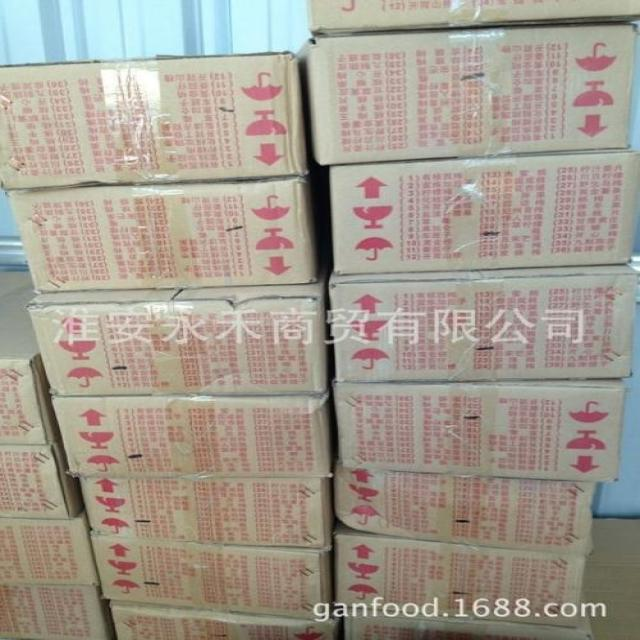box: (294, 24, 635, 167), (1, 52, 307, 192), (329, 151, 639, 275), (329, 265, 639, 383), (8, 175, 317, 293), (27, 285, 325, 395), (334, 380, 626, 484), (334, 526, 589, 627), (49, 392, 330, 478), (333, 467, 598, 553), (90, 536, 332, 621), (78, 477, 330, 549), (305, 0, 640, 34), (343, 597, 594, 640), (1, 271, 59, 446), (110, 604, 338, 640), (1, 510, 101, 584), (0, 438, 86, 520), (0, 584, 110, 640)
